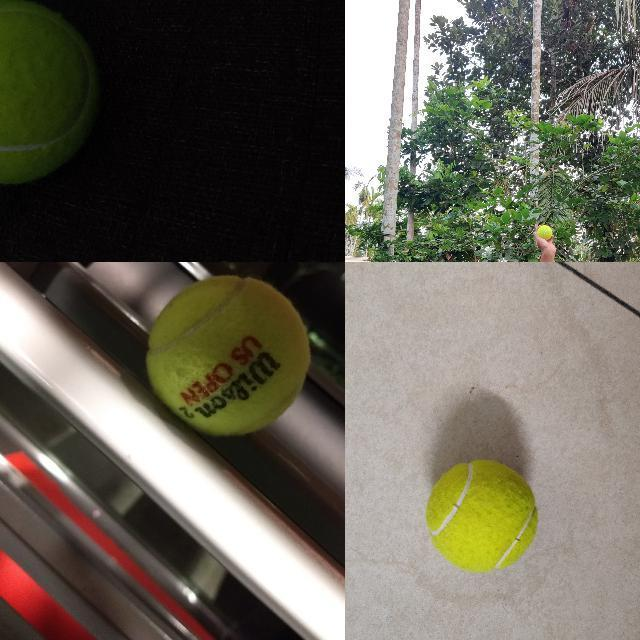tennis-ball: (142, 274, 313, 440), (0, 0, 101, 185), (425, 459, 538, 572), (537, 225, 552, 240)
